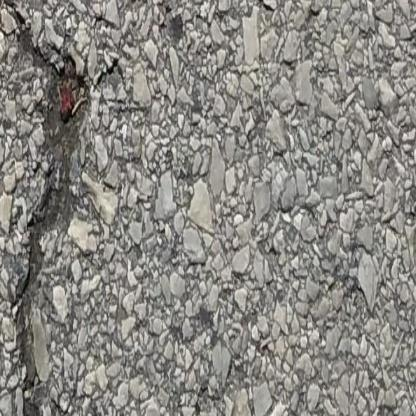Cracks: (0, 0, 95, 416)
